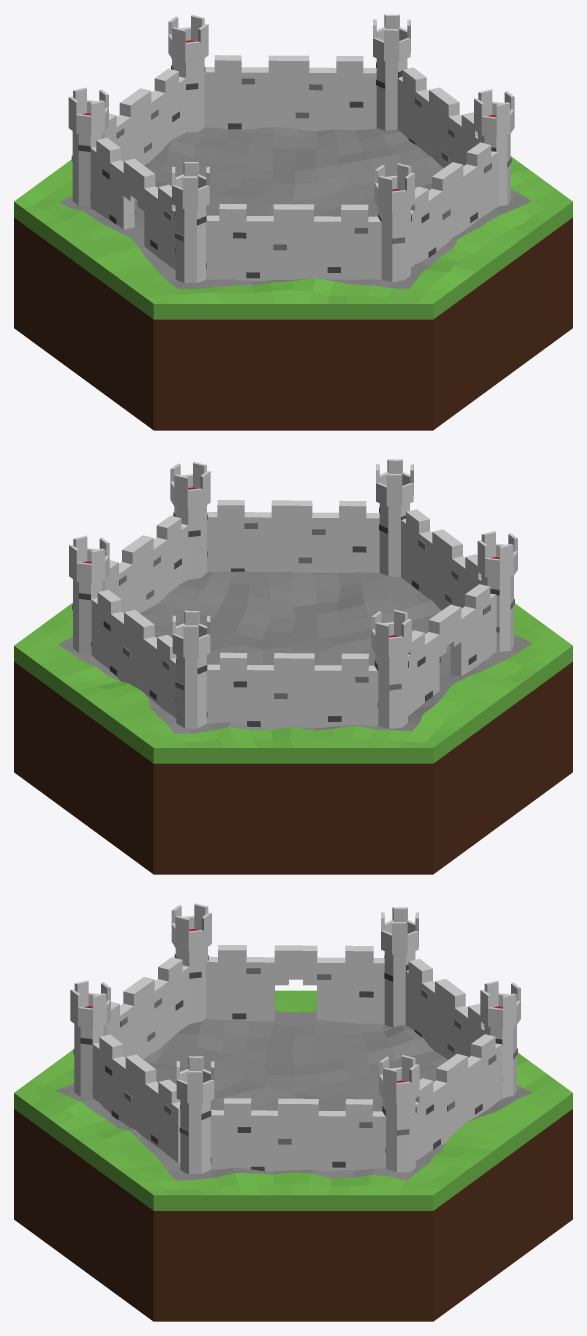
File: BurgV1.fbx
The picture shows the model from 3 angles, top to bottom: view 1: azimuth 30°, elevation 25°; view 2: azimuth 150°, elevation 25°; view 3: azimuth 270°, elevation 25°; orthographic projection.
Visible parts, largest first — view 1: Cylinder, Mauer.001, Mauer.004, Mauer.002, Mauer, Mauer.003, Mauer.005, Turm.001, Turm.002, Turm.004, Turm.005, Turm (+1 smaller); view 2: Cylinder, Mauer.005, Mauer.002, Mauer.004, Mauer, Mauer.003, Mauer.001, Turm, Turm.005, Turm.004, Turm.002, Turm.003 (+1 smaller); view 3: Cylinder, Mauer.003, Mauer, Mauer.002, Mauer.004, Mauer.001, Mauer.005, Turm.004, Turm.003, Turm, Turm.002, Turm.001 (+1 smaller).
Part boxes in pixels (<box>): Cylinder: <box>14,127,572,430</box>; Mauer.001: <box>206,204,381,281</box>; Mauer.004: <box>204,55,376,131</box>; Mauer.002: <box>411,142,498,267</box>; Mauer: <box>90,138,175,269</box>; Mauer.003: <box>397,67,477,167</box>; Mauer.005: <box>105,68,185,165</box>; Turm.001: <box>172,162,209,283</box>; Turm.002: <box>374,163,414,282</box>; Turm.004: <box>373,14,410,130</box>; Turm.005: <box>168,14,208,132</box>; Turm: <box>68,87,108,207</box>; Cylinder: <box>14,571,572,874</box>; Mauer.005: <box>206,652,378,729</box>; Mauer.002: <box>207,500,379,572</box>; Mauer.004: <box>91,590,176,718</box>; Mauer: <box>408,584,496,715</box>; Mauer.003: <box>105,515,188,613</box>; Mauer.001: <box>401,509,481,610</box>; Turm: <box>371,609,411,728</box>; Turm.005: <box>172,610,210,728</box>; Turm.004: <box>69,535,109,654</box>; Turm.002: <box>376,459,413,576</box>; Turm.003: <box>170,461,210,579</box>; Cylinder: <box>14,990,572,1321</box>; Mauer.003: <box>210,1098,385,1171</box>; Mauer: <box>206,945,384,1024</box>; Mauer.002: <box>92,1034,180,1163</box>; Mauer.004: <box>415,1034,502,1160</box>; Mauer.001: <box>107,957,189,1058</box>; Mauer.005: <box>405,958,484,1059</box>; Turm.004: <box>379,1055,419,1172</box>; Turm.003: <box>176,1056,214,1174</box>; Turm: <box>381,907,418,1027</box>; Turm.002: <box>70,980,110,1098</box>; Turm.001: <box>171,903,211,1023</box>.
Size of the model in its own units: 173 by 91.96 by 200.
